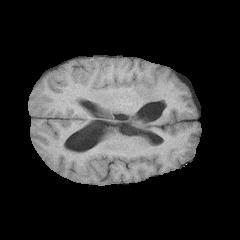glioma: (127, 81, 165, 130)
